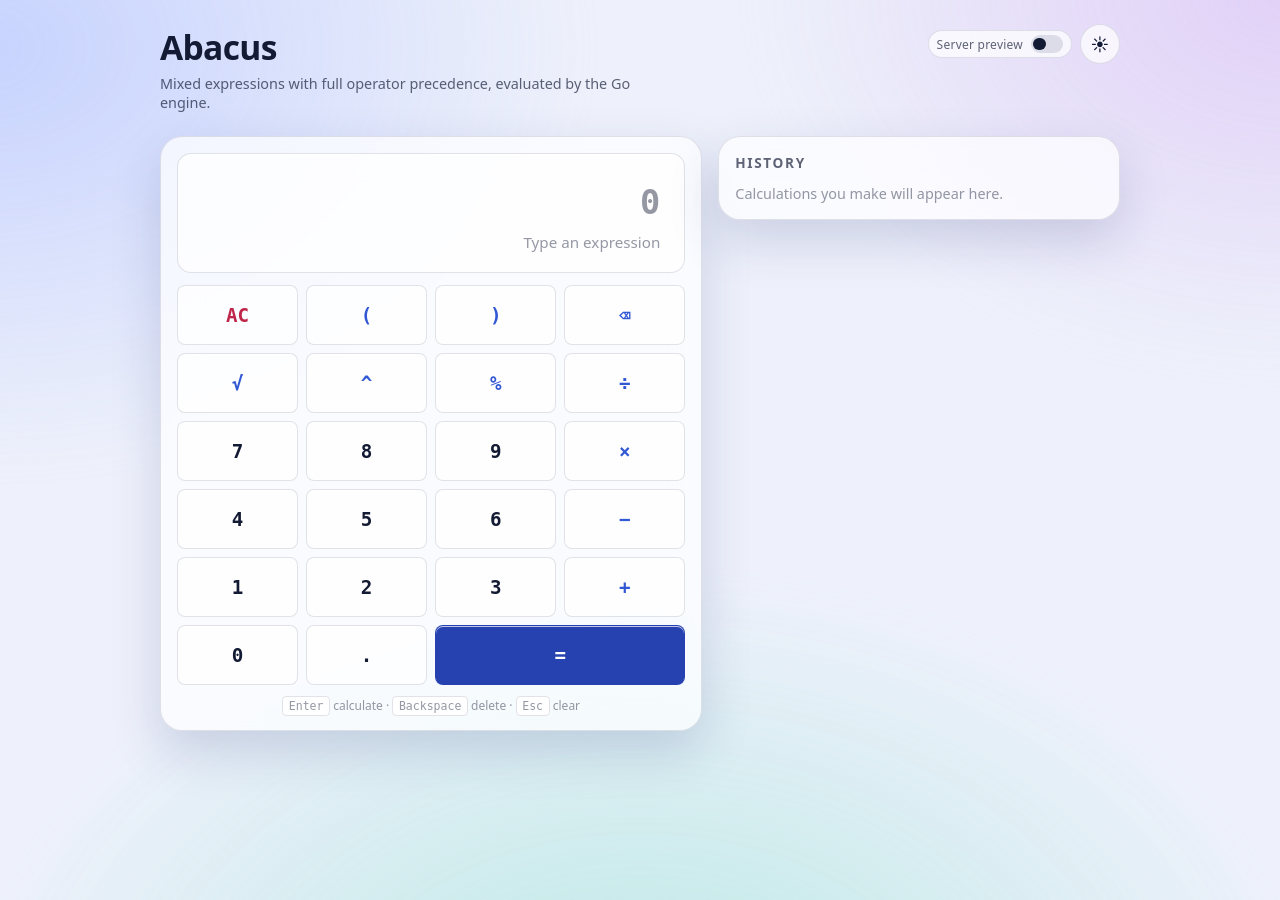
it: calculating › explains a rate limit rather than showing a raw status
The image size is (1280, 900).
Click the button "1". click: (238, 587)
box: x1=177 y1=557 x2=298 y2=617
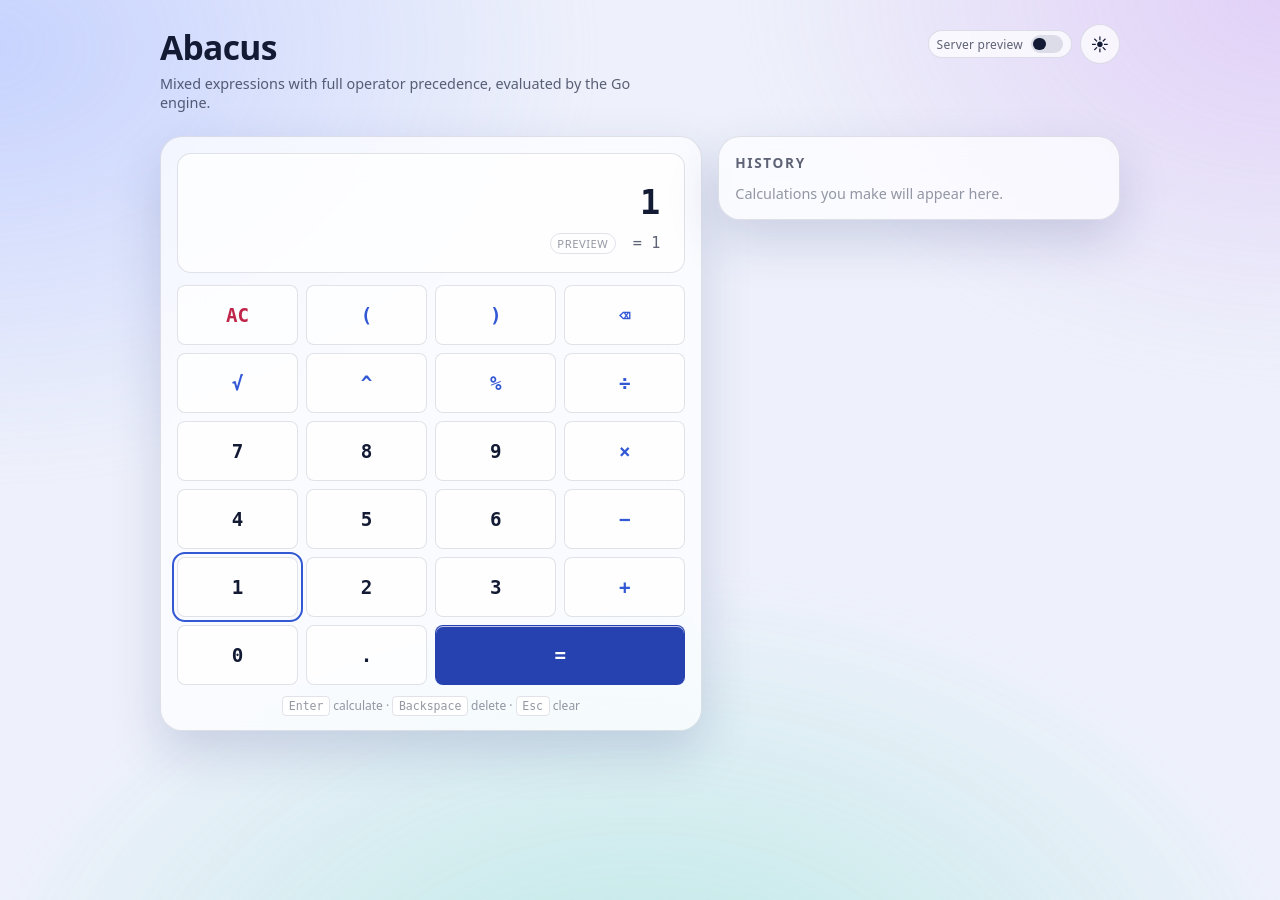
Click the button named "Add". click: (625, 587)
box: x1=564 y1=557 x2=685 y2=617
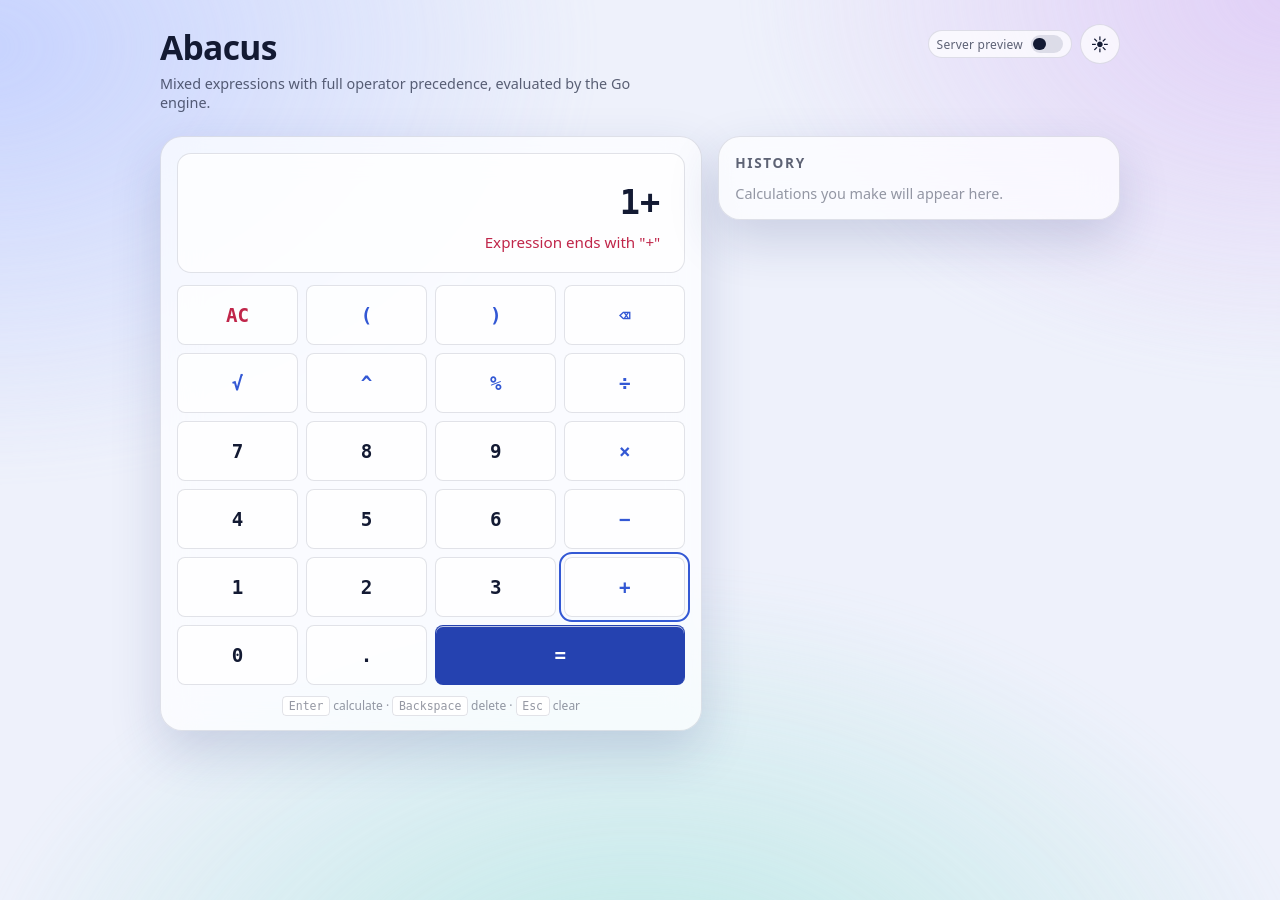
Click the button "1". click: (238, 587)
box: x1=177 y1=557 x2=298 y2=617
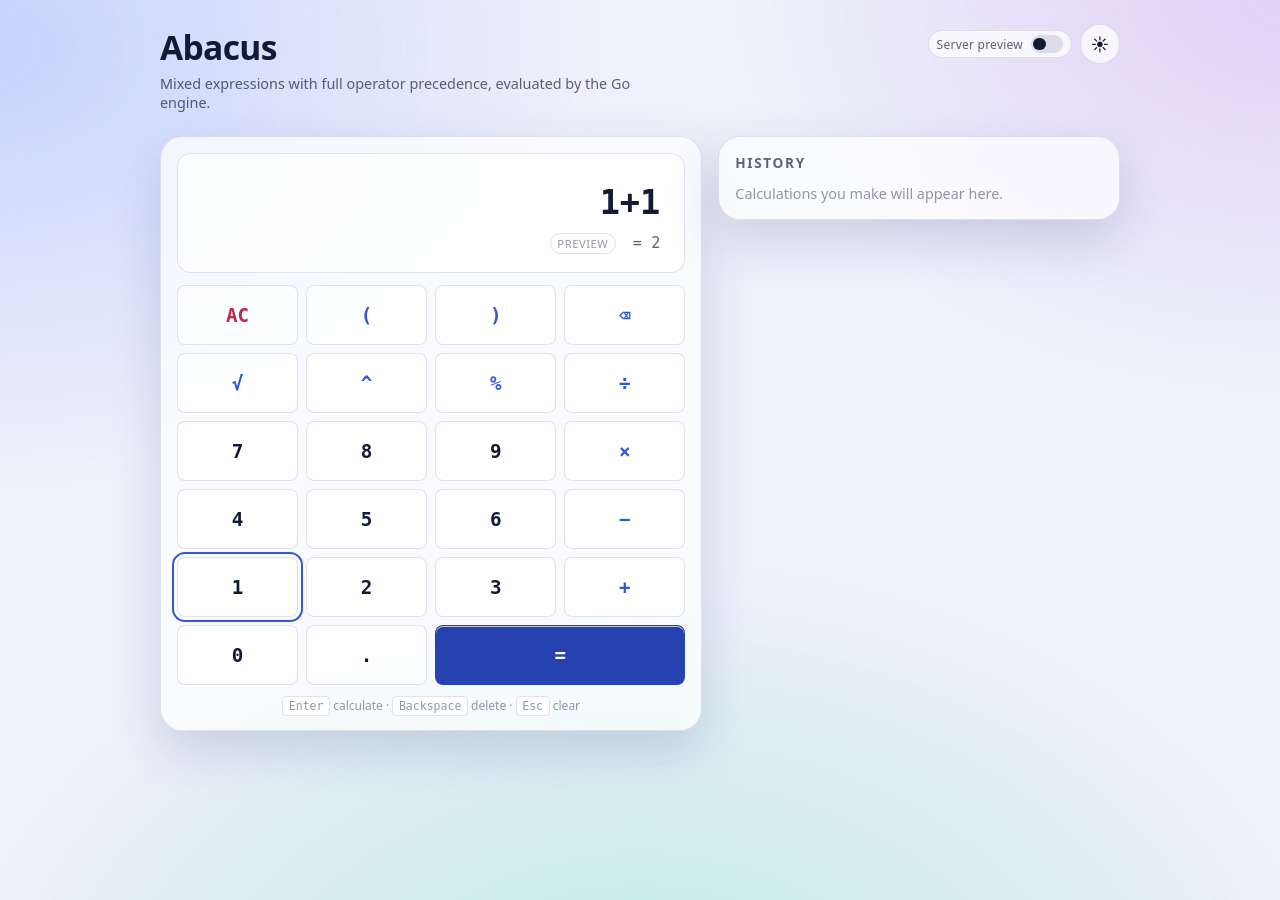
Click the button named "Calculate". click: (560, 655)
box: x1=435 y1=625 x2=685 y2=685
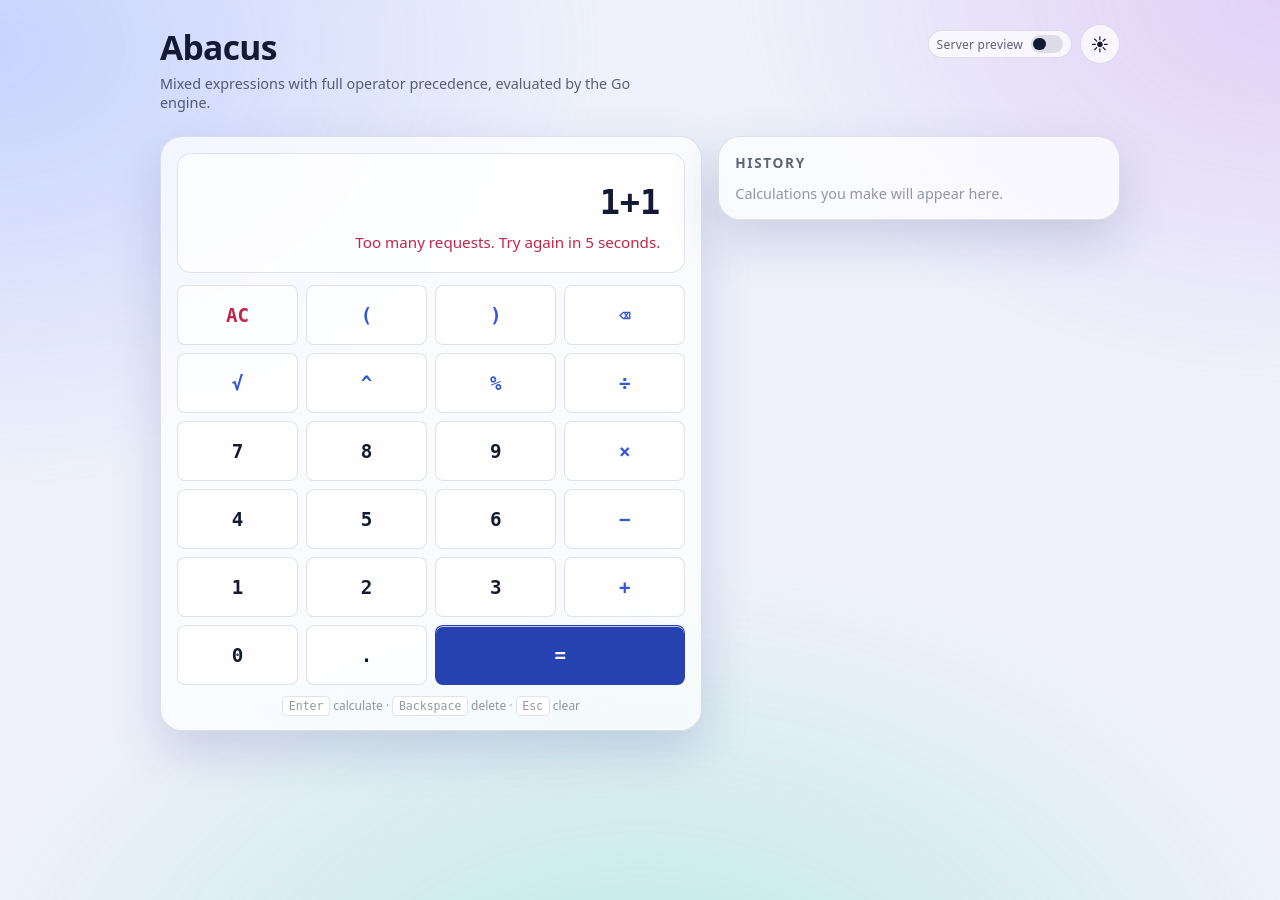
Check: the text with test id "error" shows "Try again in 5 seconds", box x1=355 y1=232 x2=660 y2=252
